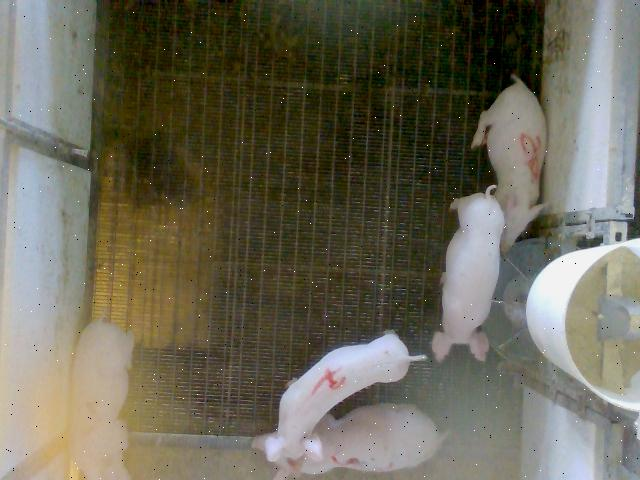pig-2: (70, 319, 134, 478)
pig-3: (301, 404, 445, 474)
pig-4: (260, 334, 425, 462)
pig-5: (471, 75, 546, 252)
